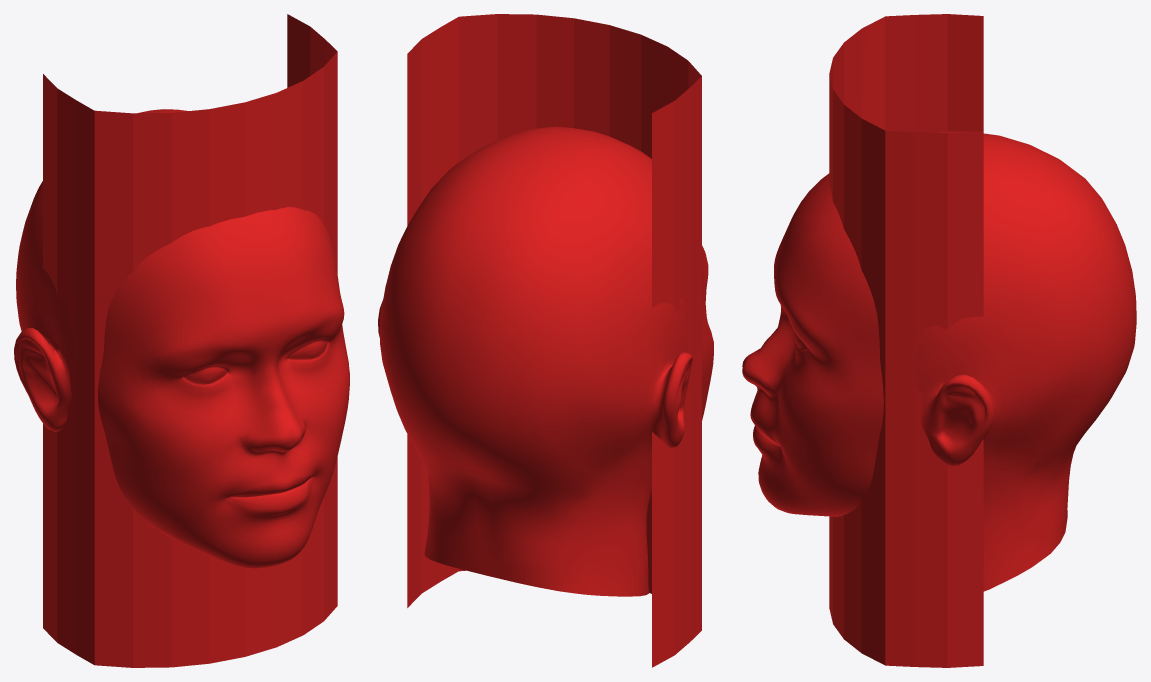
File: Head.glb
3 views of the same model, side by side, from view 1: azimuth 30°, elevation 25°; view 2: azimuth 150°, elevation 25°; view 3: azimuth 270°, elevation 25° (orthographic). The views are drawn at different scales.
Parts seen in each view (by area): view 1: occluder; view 2: occluder; view 3: occluder.
Boxes of the visible parts, x1,y1,x2,y2 form: occluder: (14, 14, 349, 667); occluder: (378, 14, 713, 667); occluder: (742, 14, 1136, 667).
Size of the model in its own units: 1.41 by 2.49 by 1.67.
Materials: 1 (1 with a texture image).
